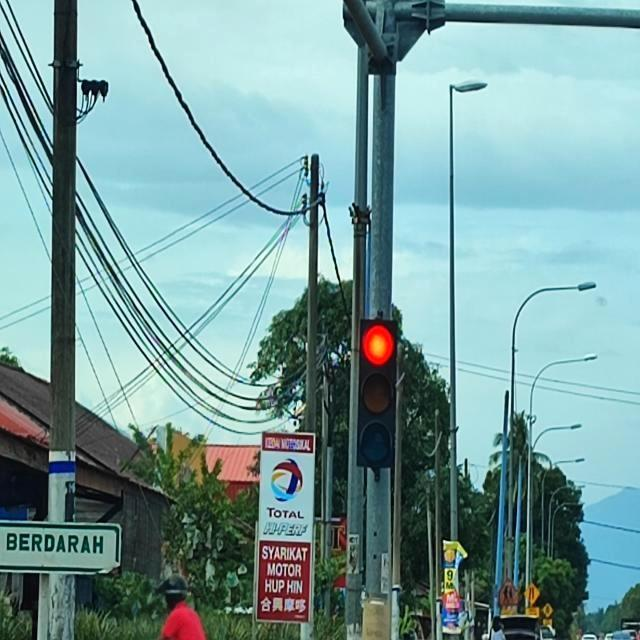Red: (356, 318, 397, 468)
